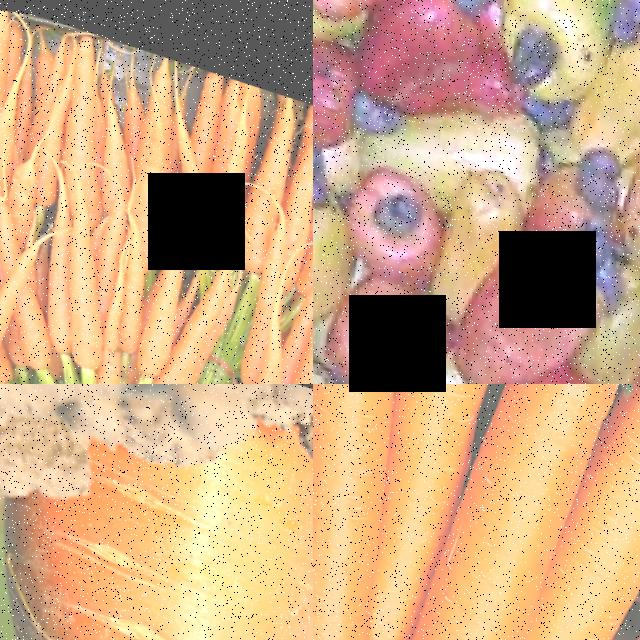carrot: (0, 384, 313, 640), (346, 384, 617, 640), (313, 384, 462, 640), (492, 384, 640, 640), (36, 15, 133, 226), (149, 70, 238, 257), (222, 73, 301, 261), (43, 181, 121, 358), (227, 226, 302, 384), (16, 42, 85, 204), (142, 258, 228, 384), (24, 184, 87, 344), (199, 86, 262, 246), (117, 71, 182, 224), (126, 225, 195, 369), (264, 95, 313, 272), (76, 266, 138, 384), (268, 228, 313, 384), (84, 86, 145, 201), (102, 218, 159, 340), (0, 254, 56, 368), (0, 147, 36, 235), (0, 63, 23, 186)
cashew: (546, 202, 614, 271)
